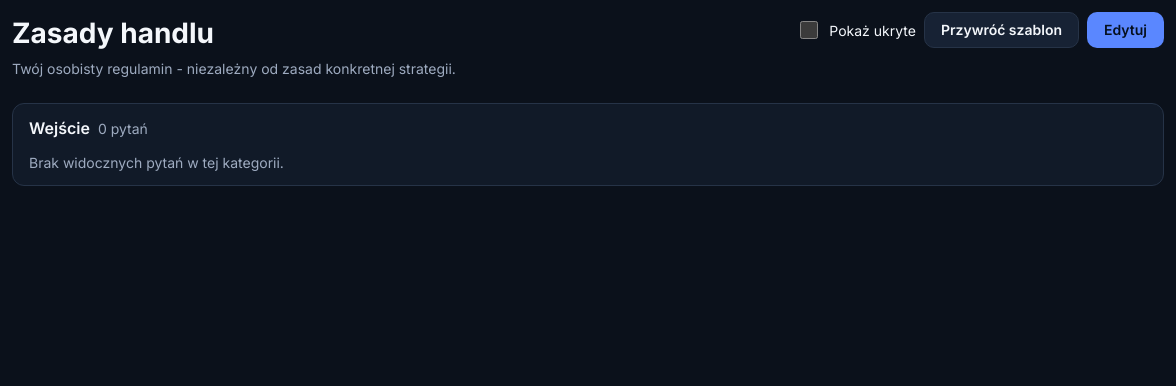
Test: ZasadyHandluPage › anulowanie/pusta treść okna 'Nazwa nowej kategorii' nic nie dodaje, poprawna nazwa dodaje kategorię
The image size is (1176, 386).
Step 1. Click the button "Edytuj" → (1126, 30), box [1087, 12, 1164, 48]
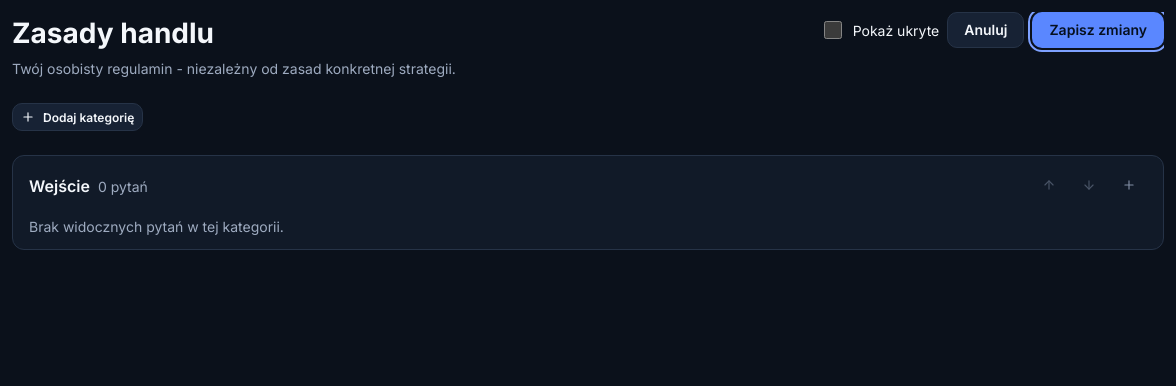
Step 2. Click the button "Dodaj kategorię" → (78, 117), box [12, 103, 143, 131]
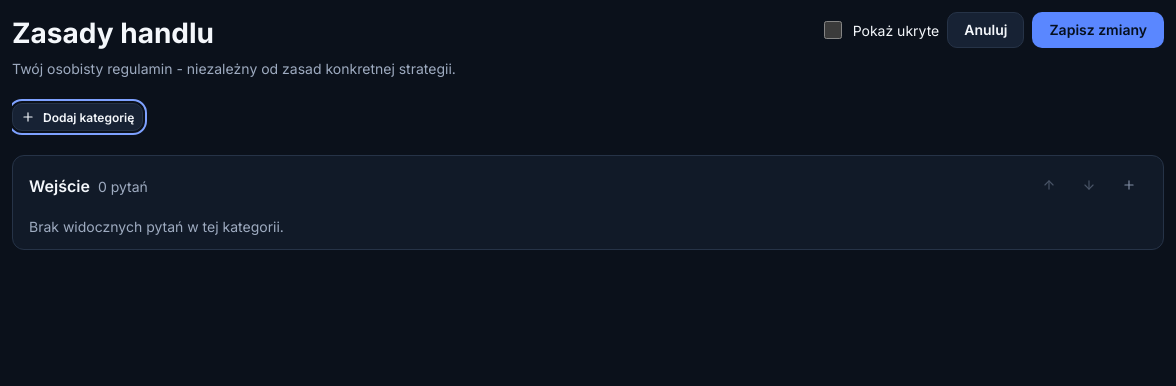
Expected: the text "Nowa kategoria" is not shown
Step 3. Click the button "Dodaj kategorię" → (78, 117), box [12, 103, 143, 131]
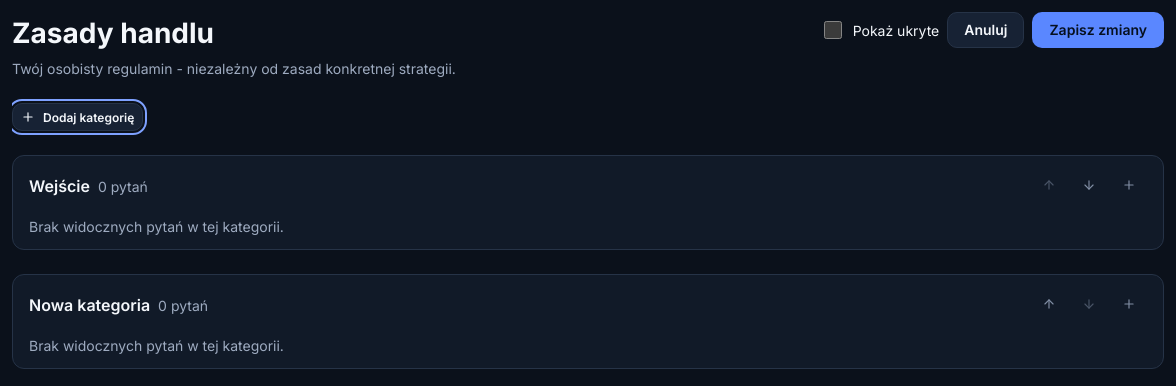
Now the text "Nowa kategoria" is shown, box [29, 293, 150, 317]
